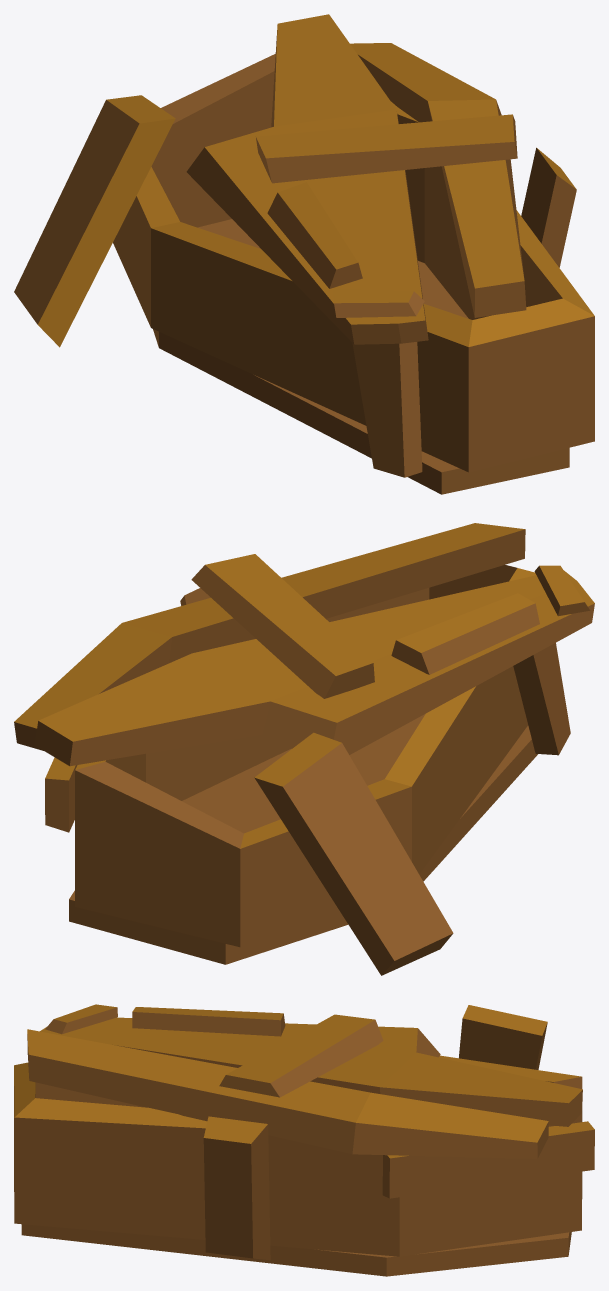
The model's file is caixao_base_quebrado.fbx.
The picture shows the model from 3 angles, top to bottom: view 1: azimuth 30°, elevation 25°; view 2: azimuth 150°, elevation 25°; view 3: azimuth 270°, elevation 25°; orthographic projection. The views are drawn at different scales.
Parts seen in each view (by area): view 1: caixao_base_quebrado; view 2: caixao_base_quebrado; view 3: caixao_base_quebrado.
Part boxes in pixels (left/top/right/bottom): caixao_base_quebrado: left=14, top=14, right=594, bottom=494; caixao_base_quebrado: left=14, top=523, right=594, bottom=975; caixao_base_quebrado: left=14, top=1004, right=594, bottom=1276.
Size of the model in its own units: 236 by 127 by 345.
